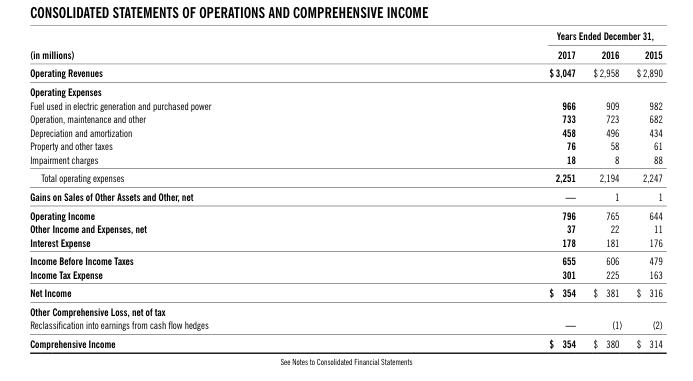table: (29, 29, 661, 349)
table column: (29, 29, 379, 349), (379, 29, 583, 349), (583, 29, 628, 349), (628, 29, 661, 349)
table column header: (29, 29, 661, 63)
table projected row header: (29, 81, 661, 98), (29, 301, 661, 317)
table row: (29, 44, 661, 63), (29, 186, 661, 205), (29, 63, 661, 81), (29, 168, 661, 186), (29, 283, 661, 301), (29, 81, 661, 98), (29, 234, 661, 251), (29, 152, 661, 168), (29, 205, 661, 221), (29, 251, 661, 267), (29, 267, 661, 283), (29, 301, 661, 317), (29, 317, 661, 333), (29, 333, 661, 349), (29, 29, 661, 44), (29, 111, 661, 125), (29, 138, 661, 152), (29, 98, 661, 111), (29, 125, 661, 138), (29, 221, 661, 234)
table spanning cell: (29, 29, 379, 63), (379, 29, 661, 44)
